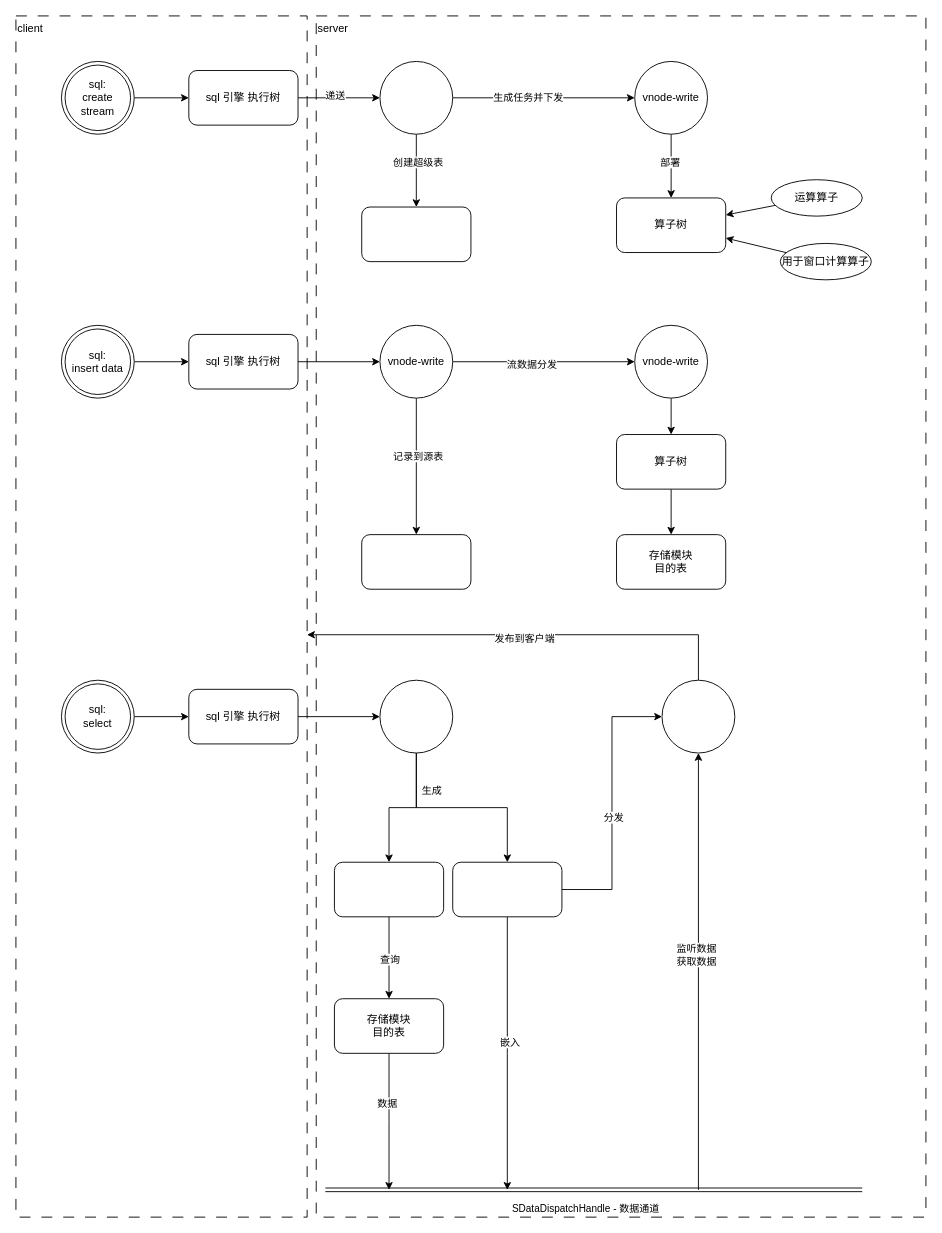
This 942x1233 diagram has some shape labels left out. The centre of each missing label's shape, as x and y in pixels:
"mnode-write" belongs at (x=416, y=97).
"sql 引擎 操作树" belongs at (x=389, y=889).
"vnode-fetch" belongs at (x=698, y=716).
"vnode-query" belongs at (x=416, y=716).
"存储模块" belongs at (x=416, y=234).
"存储模块 源表" belongs at (x=416, y=561).
"数据存取器" belongs at (x=507, y=889).
